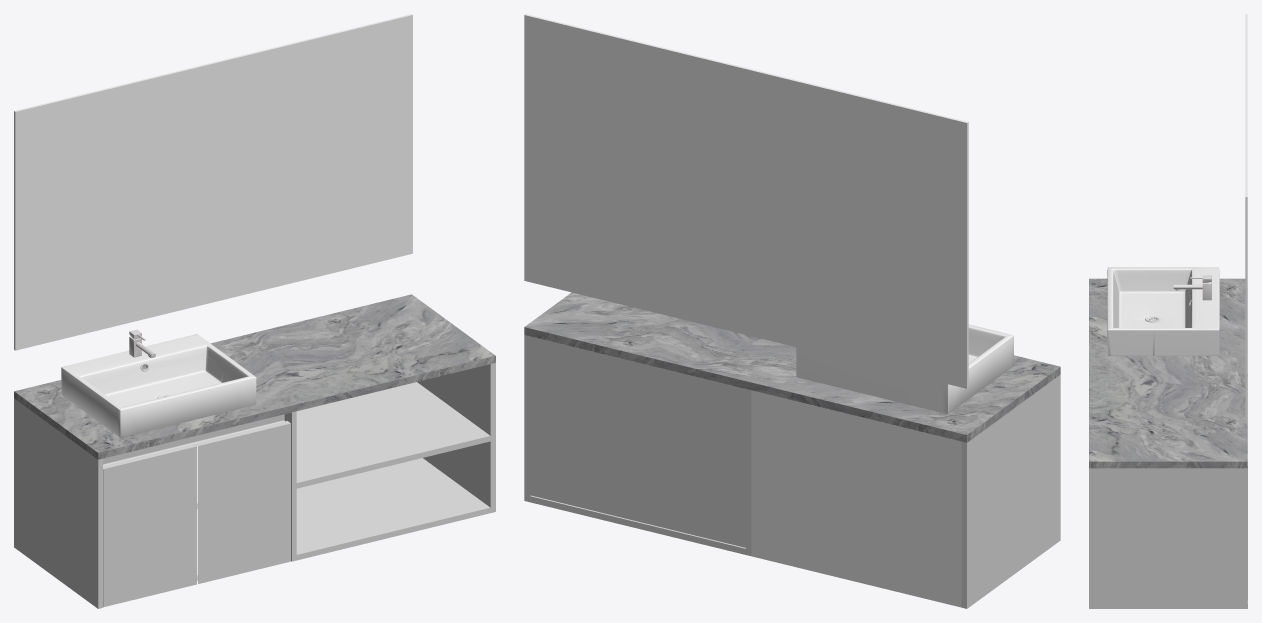
File: ANRID-final.glb
The picture shows the model from 3 angles, left to right: view 1: azimuth 30°, elevation 25°; view 2: azimuth 150°, elevation 25°; view 3: azimuth 270°, elevation 25°; orthographic projection. The views are drawn at different scales.
Parts seen in each view (by area): view 1: ANRID; view 2: ANRID; view 3: ANRID.
Boxes of the visible parts, bbox=[...] form: ANRID: bbox=[14, 14, 495, 608]; ANRID: bbox=[524, 14, 1060, 608]; ANRID: bbox=[1089, 14, 1247, 608].
Bounding box in the file's own units: 1.2 × 1.26 × 0.4388.
Materials: 7 (2 with a texture image).
